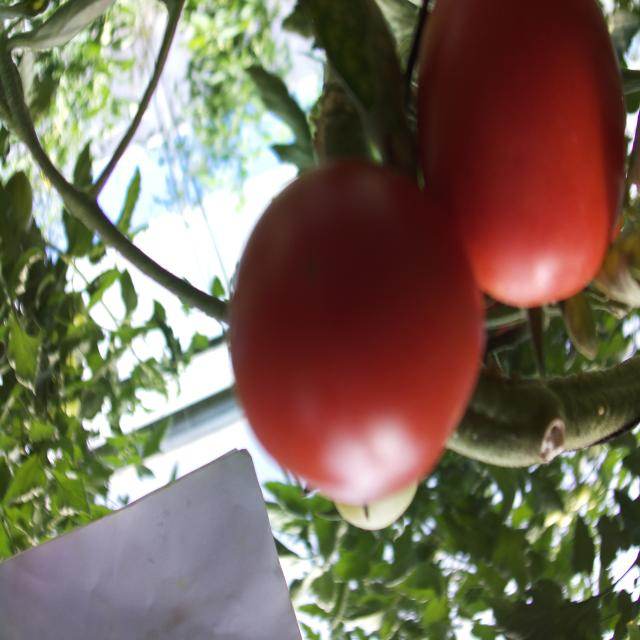kirmizi: (203, 0, 637, 526)
